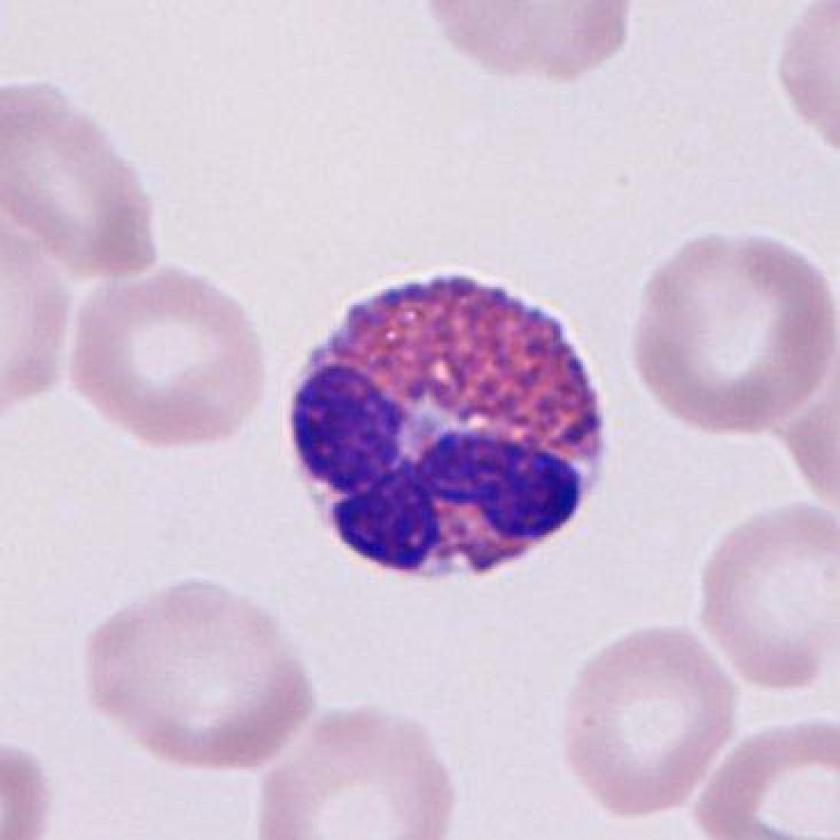eosinophil: (281, 256, 625, 600)
